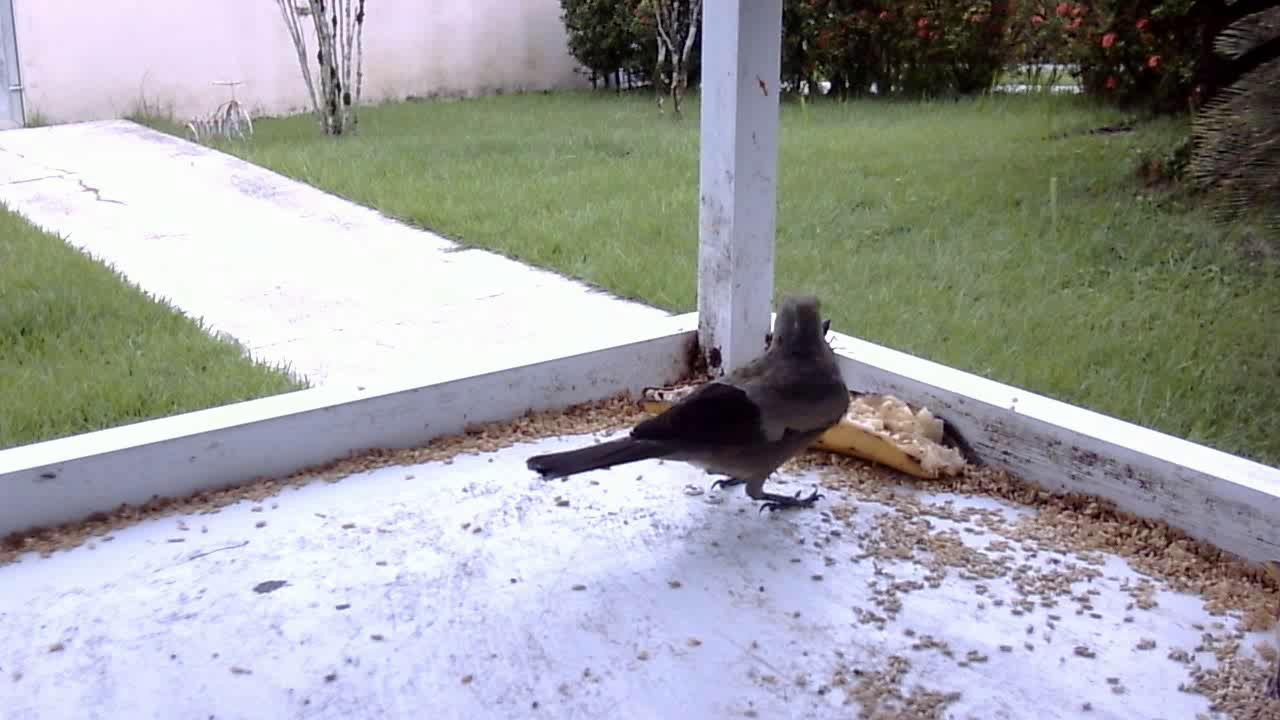sanhaco_do_coqueiro: (528, 293, 854, 516)
